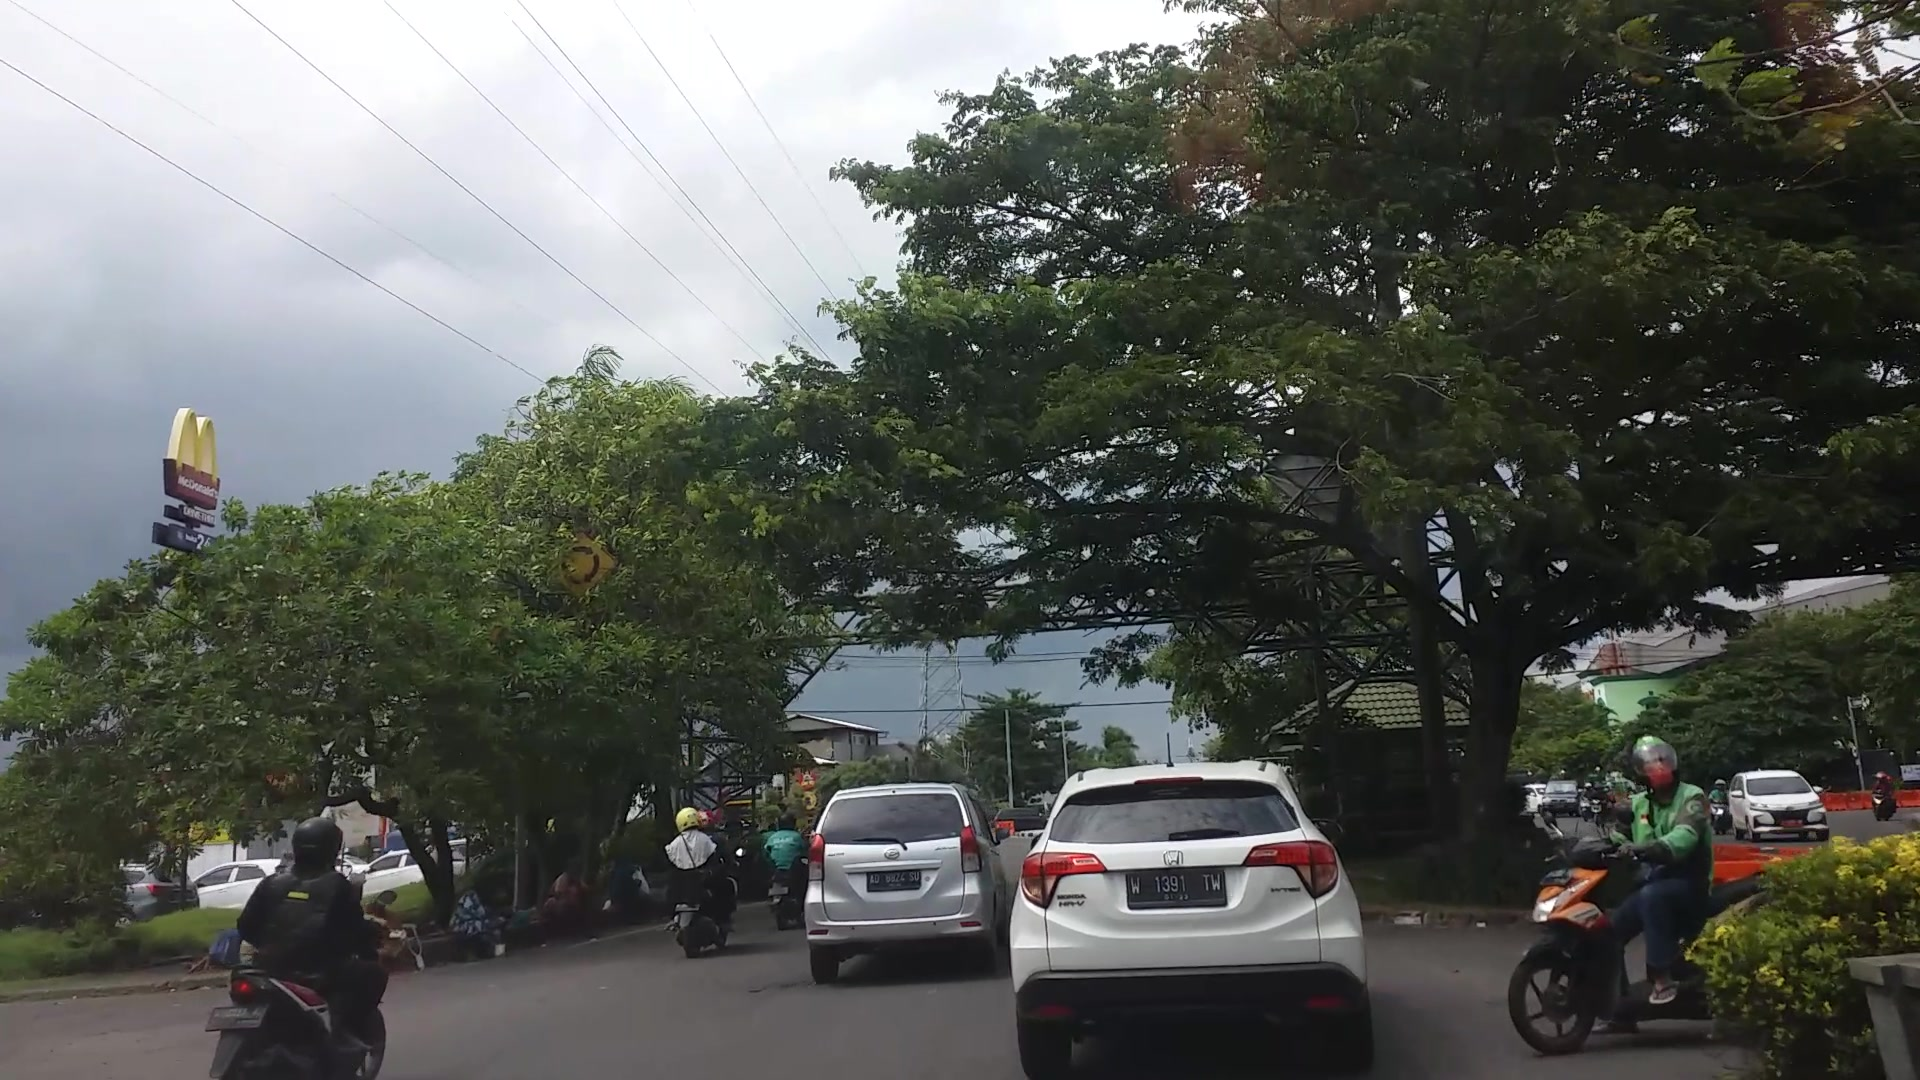plate_positive: (1127, 870, 1228, 907)
